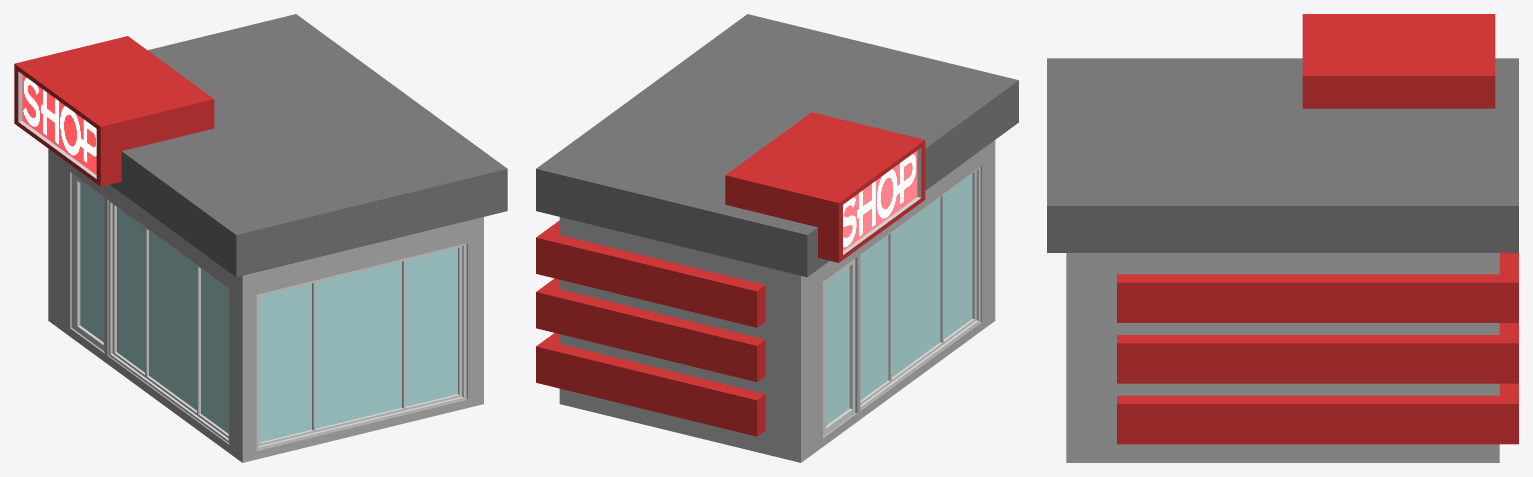
Rendered from shop.glb.
3 views of the same model, side by side, from view 1: azimuth 30°, elevation 25°; view 2: azimuth 150°, elevation 25°; view 3: azimuth 270°, elevation 25° (orthographic). The views are drawn at different scales.
Visible parts, largest first — view 1: SHOP_0; view 2: SHOP_0; view 3: SHOP_0.
Part boxes in pixels (x1,y1,x2,y2): SHOP_0: [14, 14, 507, 462]; SHOP_0: [536, 14, 1018, 462]; SHOP_0: [1047, 14, 1518, 462].
Bounding box in the file's own units: 3.91 × 3.42 × 4.9.
